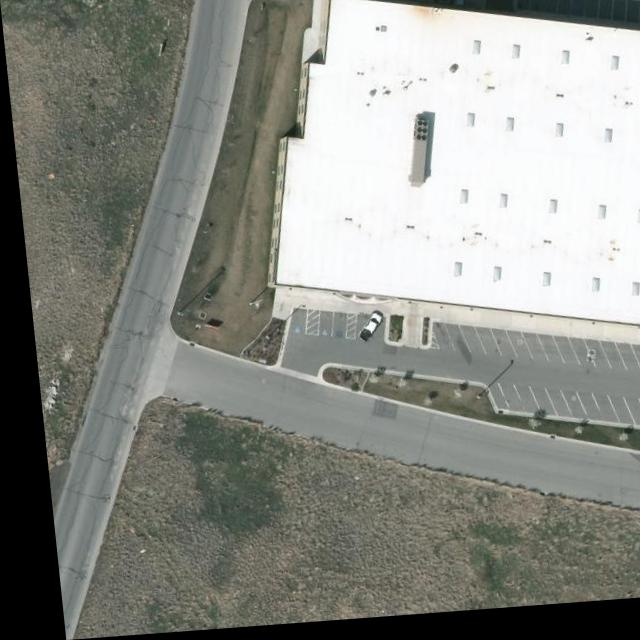vehicle: (349, 317, 377, 350)
